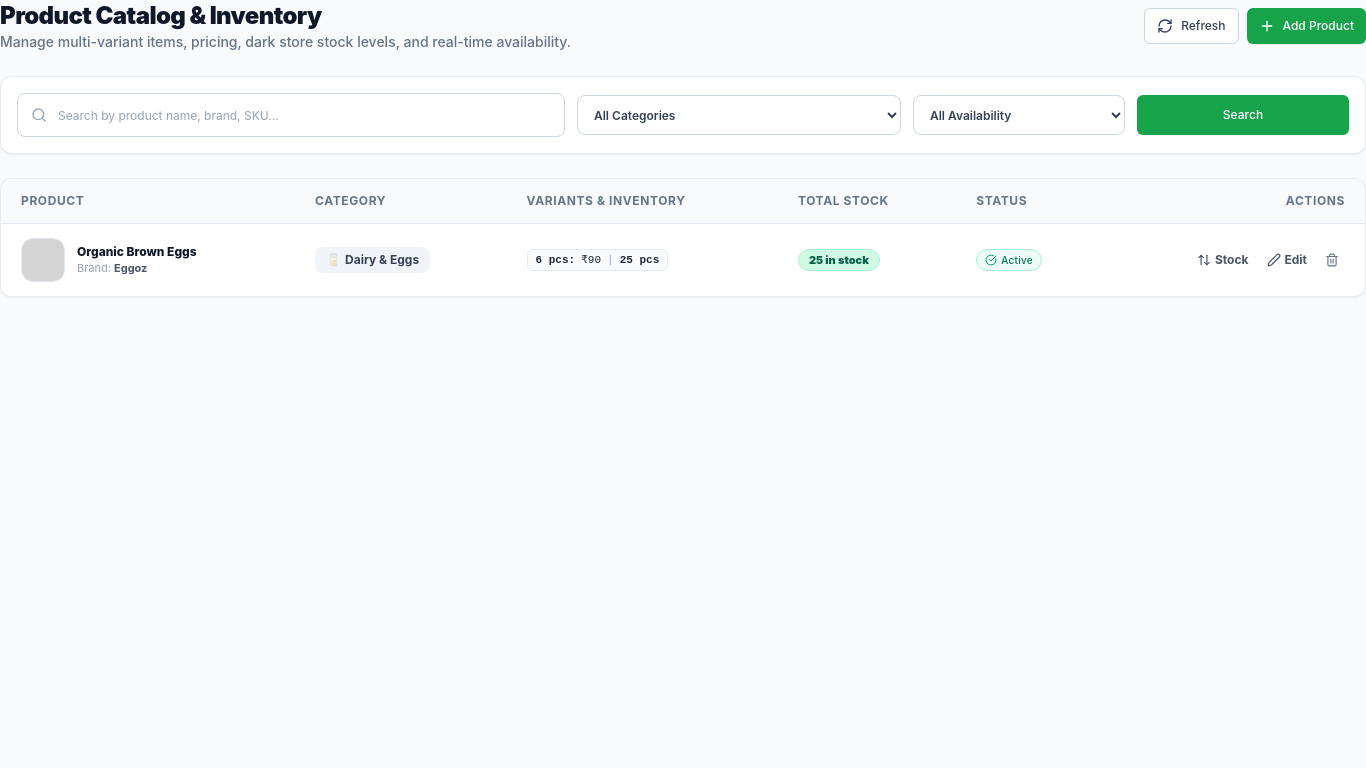
Test: Phase 9: Admin Backoffice UI Components & Flows › AdminProductsPage › renders products table, filters, and opens stock update modal
This screenshot has width=1366, height=768.
Expected: the text "Organic Brown Eggs" is shown, left=77, top=244, right=197, bottom=260
Expected: the text "6 pcs:" is shown, left=536, top=252, right=575, bottom=268
// Open Stock Modal
Click the button titled "Update Stock Levels". click: (1223,260)
box: left=1191, top=246, right=1254, bottom=274
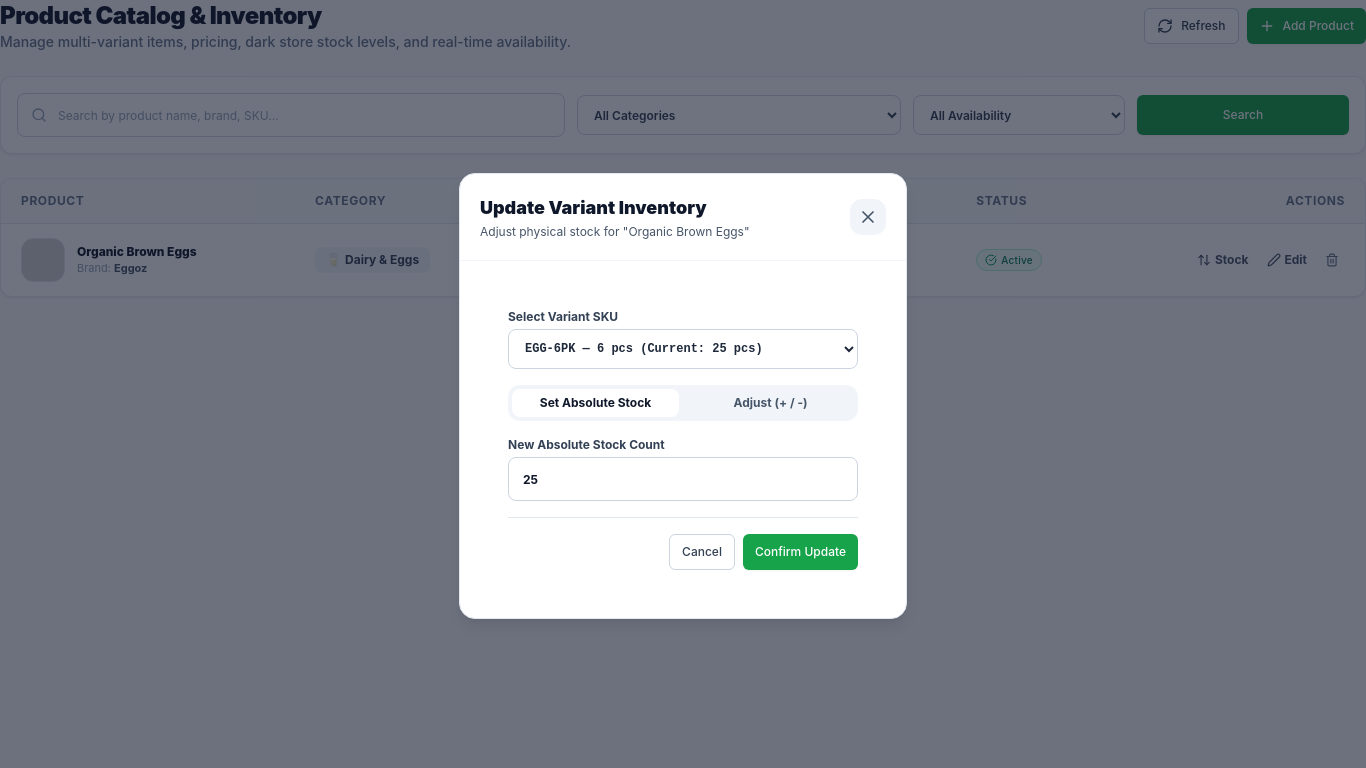
Now the heading "Update Variant Inventory" is shown, box left=480, top=197, right=707, bottom=218
Now the button "Set Absolute Stock" is shown, box left=512, top=389, right=679, bottom=417
Now the button "Adjust (+ / -)" is shown, box left=687, top=389, right=854, bottom=417
